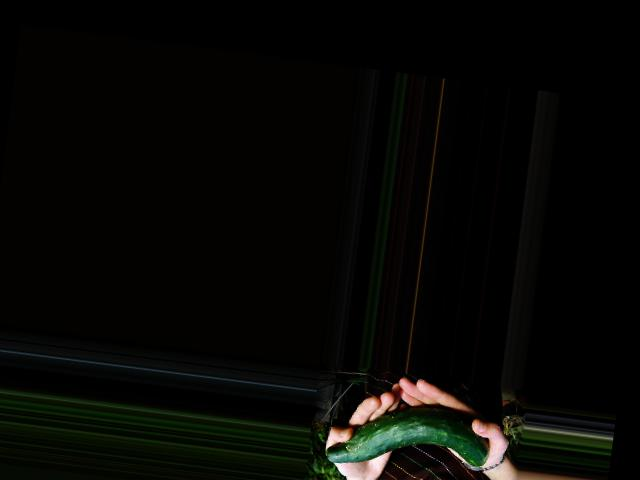cucumber: (325, 394, 494, 480)
